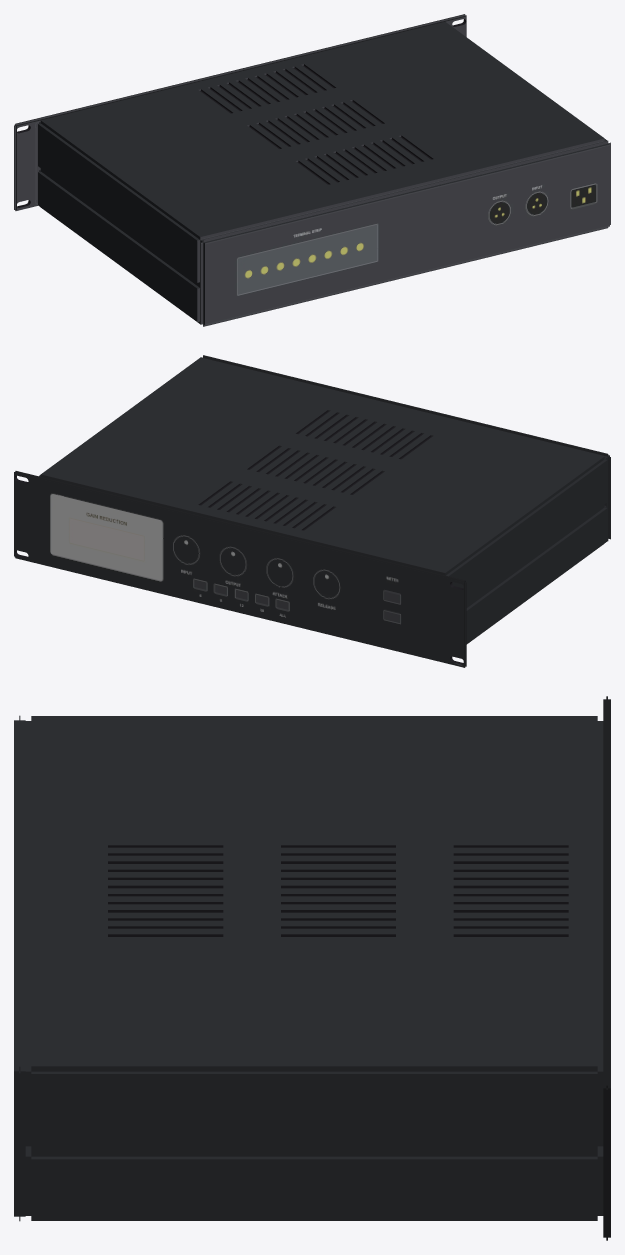
3 renders of one model, top to bottom at view 1: azimuth 30°, elevation 25°; view 2: azimuth 150°, elevation 25°; view 3: azimuth 270°, elevation 25°, orthographic. The views are drawn at different scales.
Visible parts, largest first — view 1: ua-1176ln-body; view 2: ua-1176ln-body; view 3: ua-1176ln-body.
Part boxes in pixels (x1=…): ua-1176ln-body: x1=14, y1=14, x2=610, y2=326; ua-1176ln-body: x1=14, y1=355, x2=610, y2=667; ua-1176ln-body: x1=14, y1=696, x2=610, y2=1240.
Bounding box in the file's own units: 0.483 × 0.089 × 0.311.
1 material, 1 textured.
